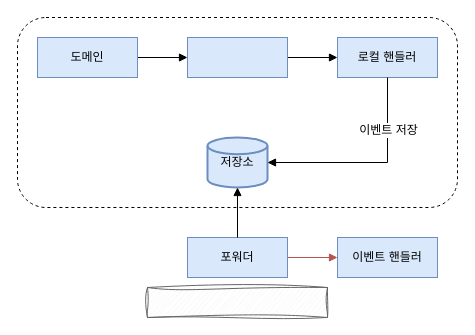
Some shapes in this 475 by 335 pixel diagram are drawn without their labels. Here are the shapes that lost their labels. From the top down, the box of each, then its label:
(186, 36, 288, 78): 이벤트 디스패처
(146, 286, 328, 318): 이벤트를 주기적으로 읽어와 전달함 어디까지 전달했는지 추적
